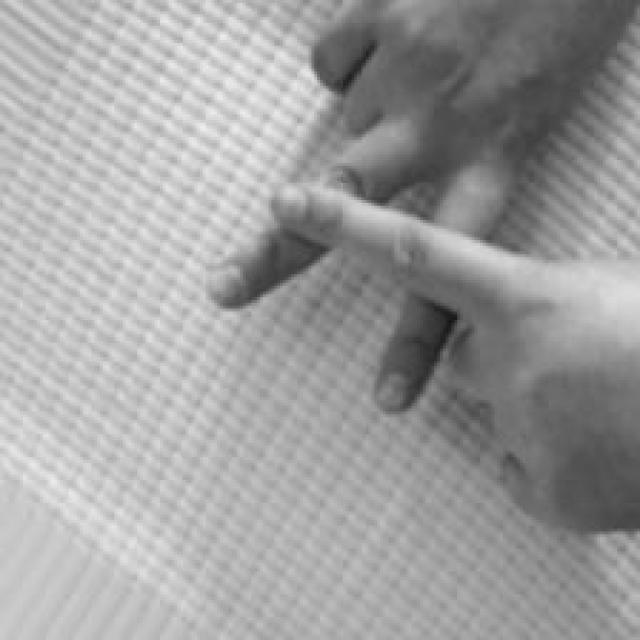A: (205, 0, 640, 536)
